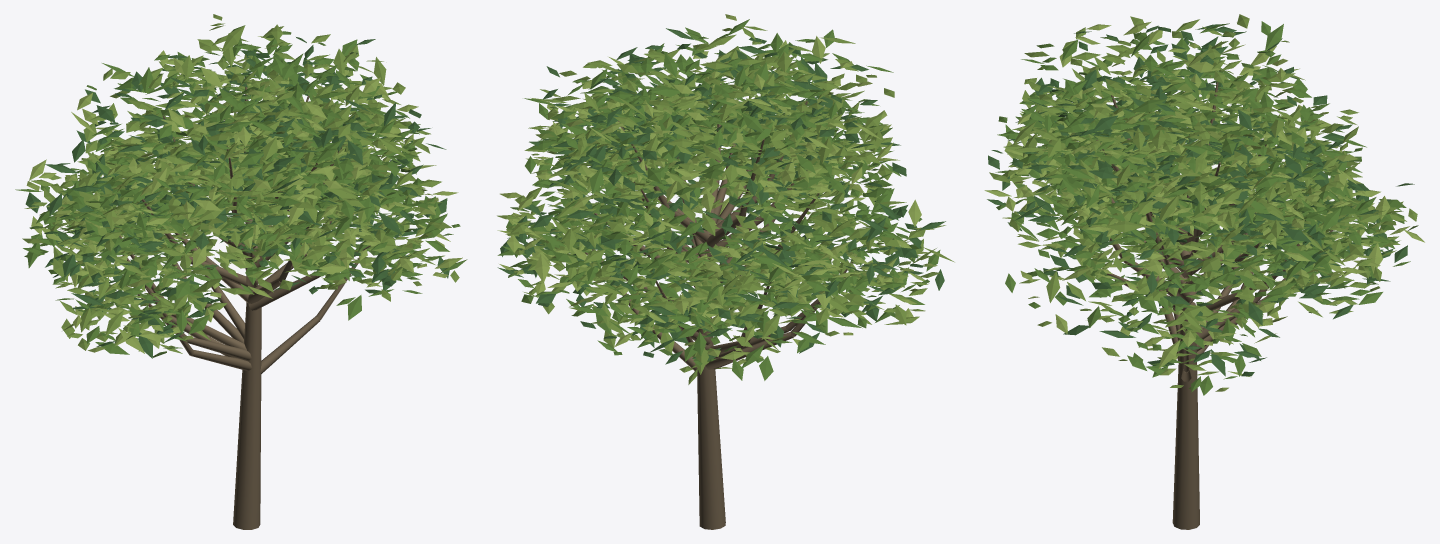
File: harbor_plane_tree.glb
3 views of the same model, side by side, from view 1: azimuth 30°, elevation 25°; view 2: azimuth 150°, elevation 25°; view 3: azimuth 270°, elevation 25° (orthographic).
Parts seen in each view (by area): view 1: harbor_plane_tree; view 2: harbor_plane_tree; view 3: harbor_plane_tree.
Boxes of the visible parts, box(x1,y1,x2,y2) form: harbor_plane_tree: box(15, 14, 467, 529); harbor_plane_tree: box(497, 14, 954, 529); harbor_plane_tree: box(984, 14, 1424, 529).
Bounding box in the file's own units: 4.83 × 5.21 × 4.48.
